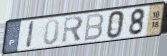0: (106, 9, 125, 39), (42, 18, 61, 47)
8: (128, 7, 147, 36)
B: (83, 12, 105, 42)
I: (25, 20, 36, 50)
R: (61, 15, 85, 45)
